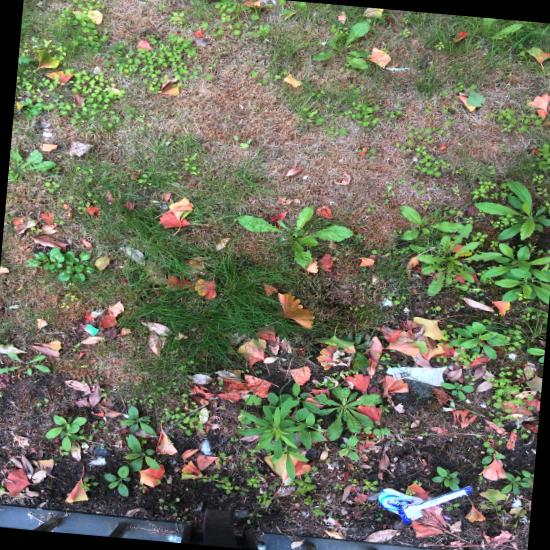Other carton: (85, 324, 99, 336)
Other plastic: (378, 485, 472, 523)
Unlabeled litter: (386, 366, 446, 386)
